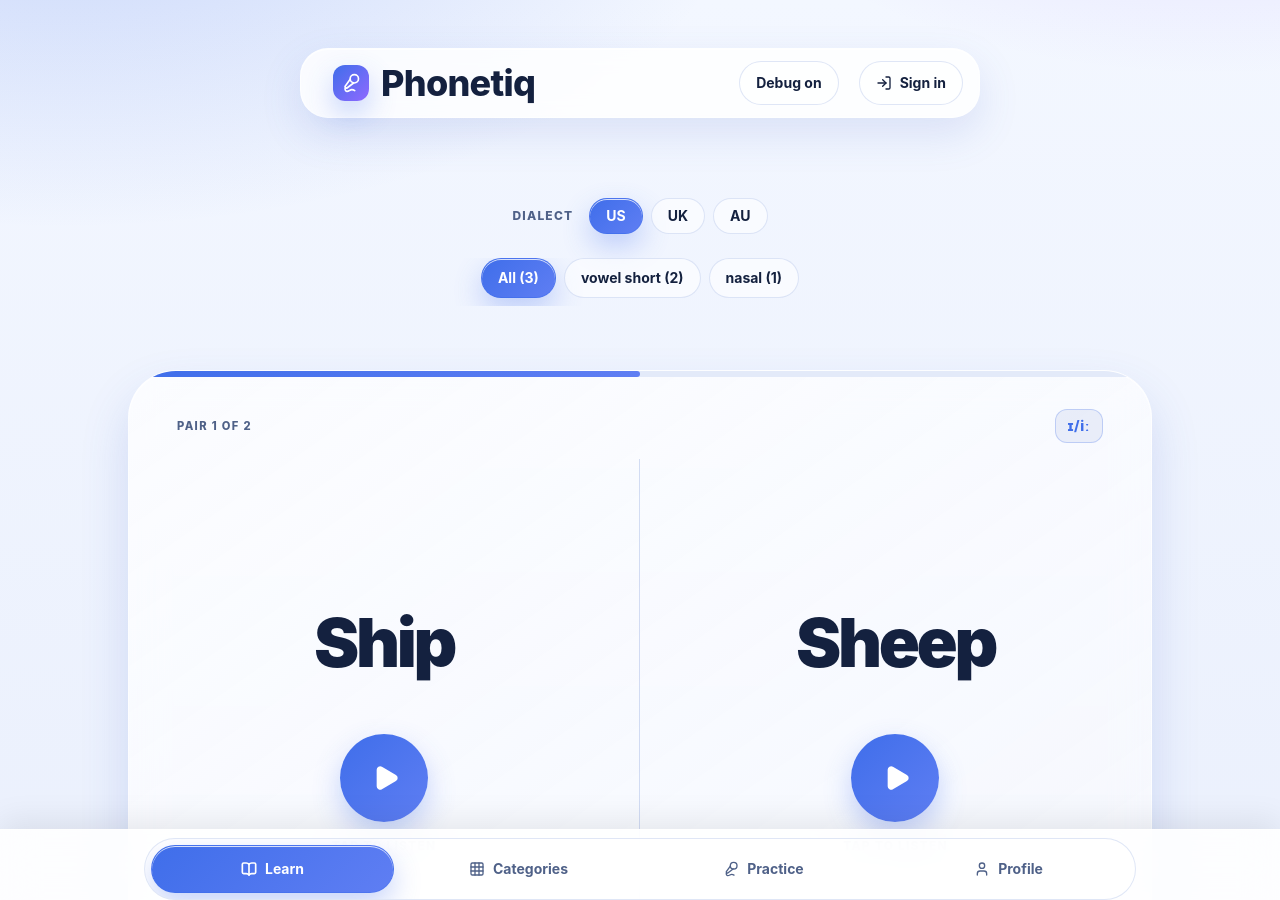
it: App › renders profile stage when Profile mode is selected
Expected: the text "Pair 1 of 2" is shown, [177,418,252,434]
Click the button "Profile" at (1008, 869), box [888,845,1129,893]
(page scrolled)
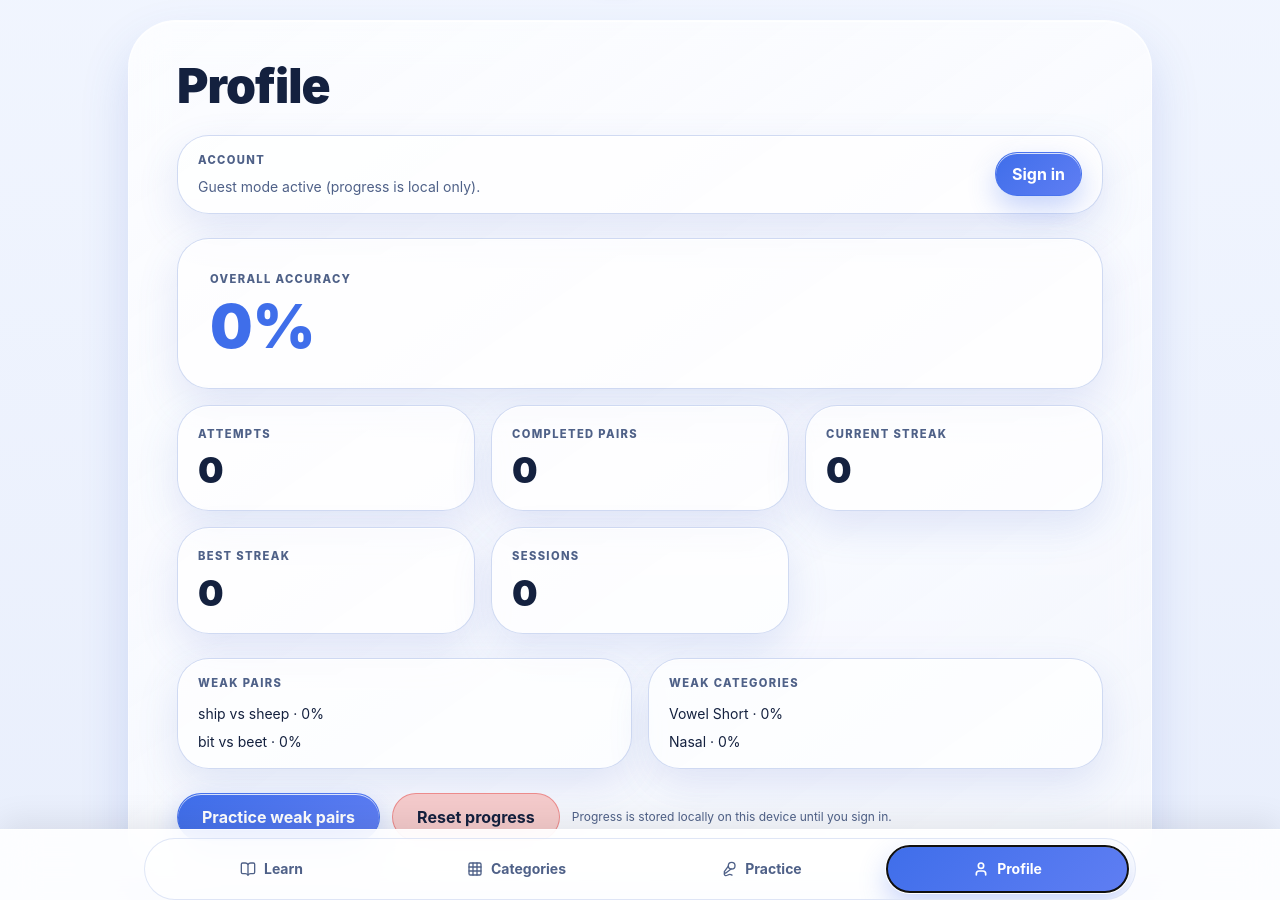
Expected: the element with test id "profile-stage" is shown
